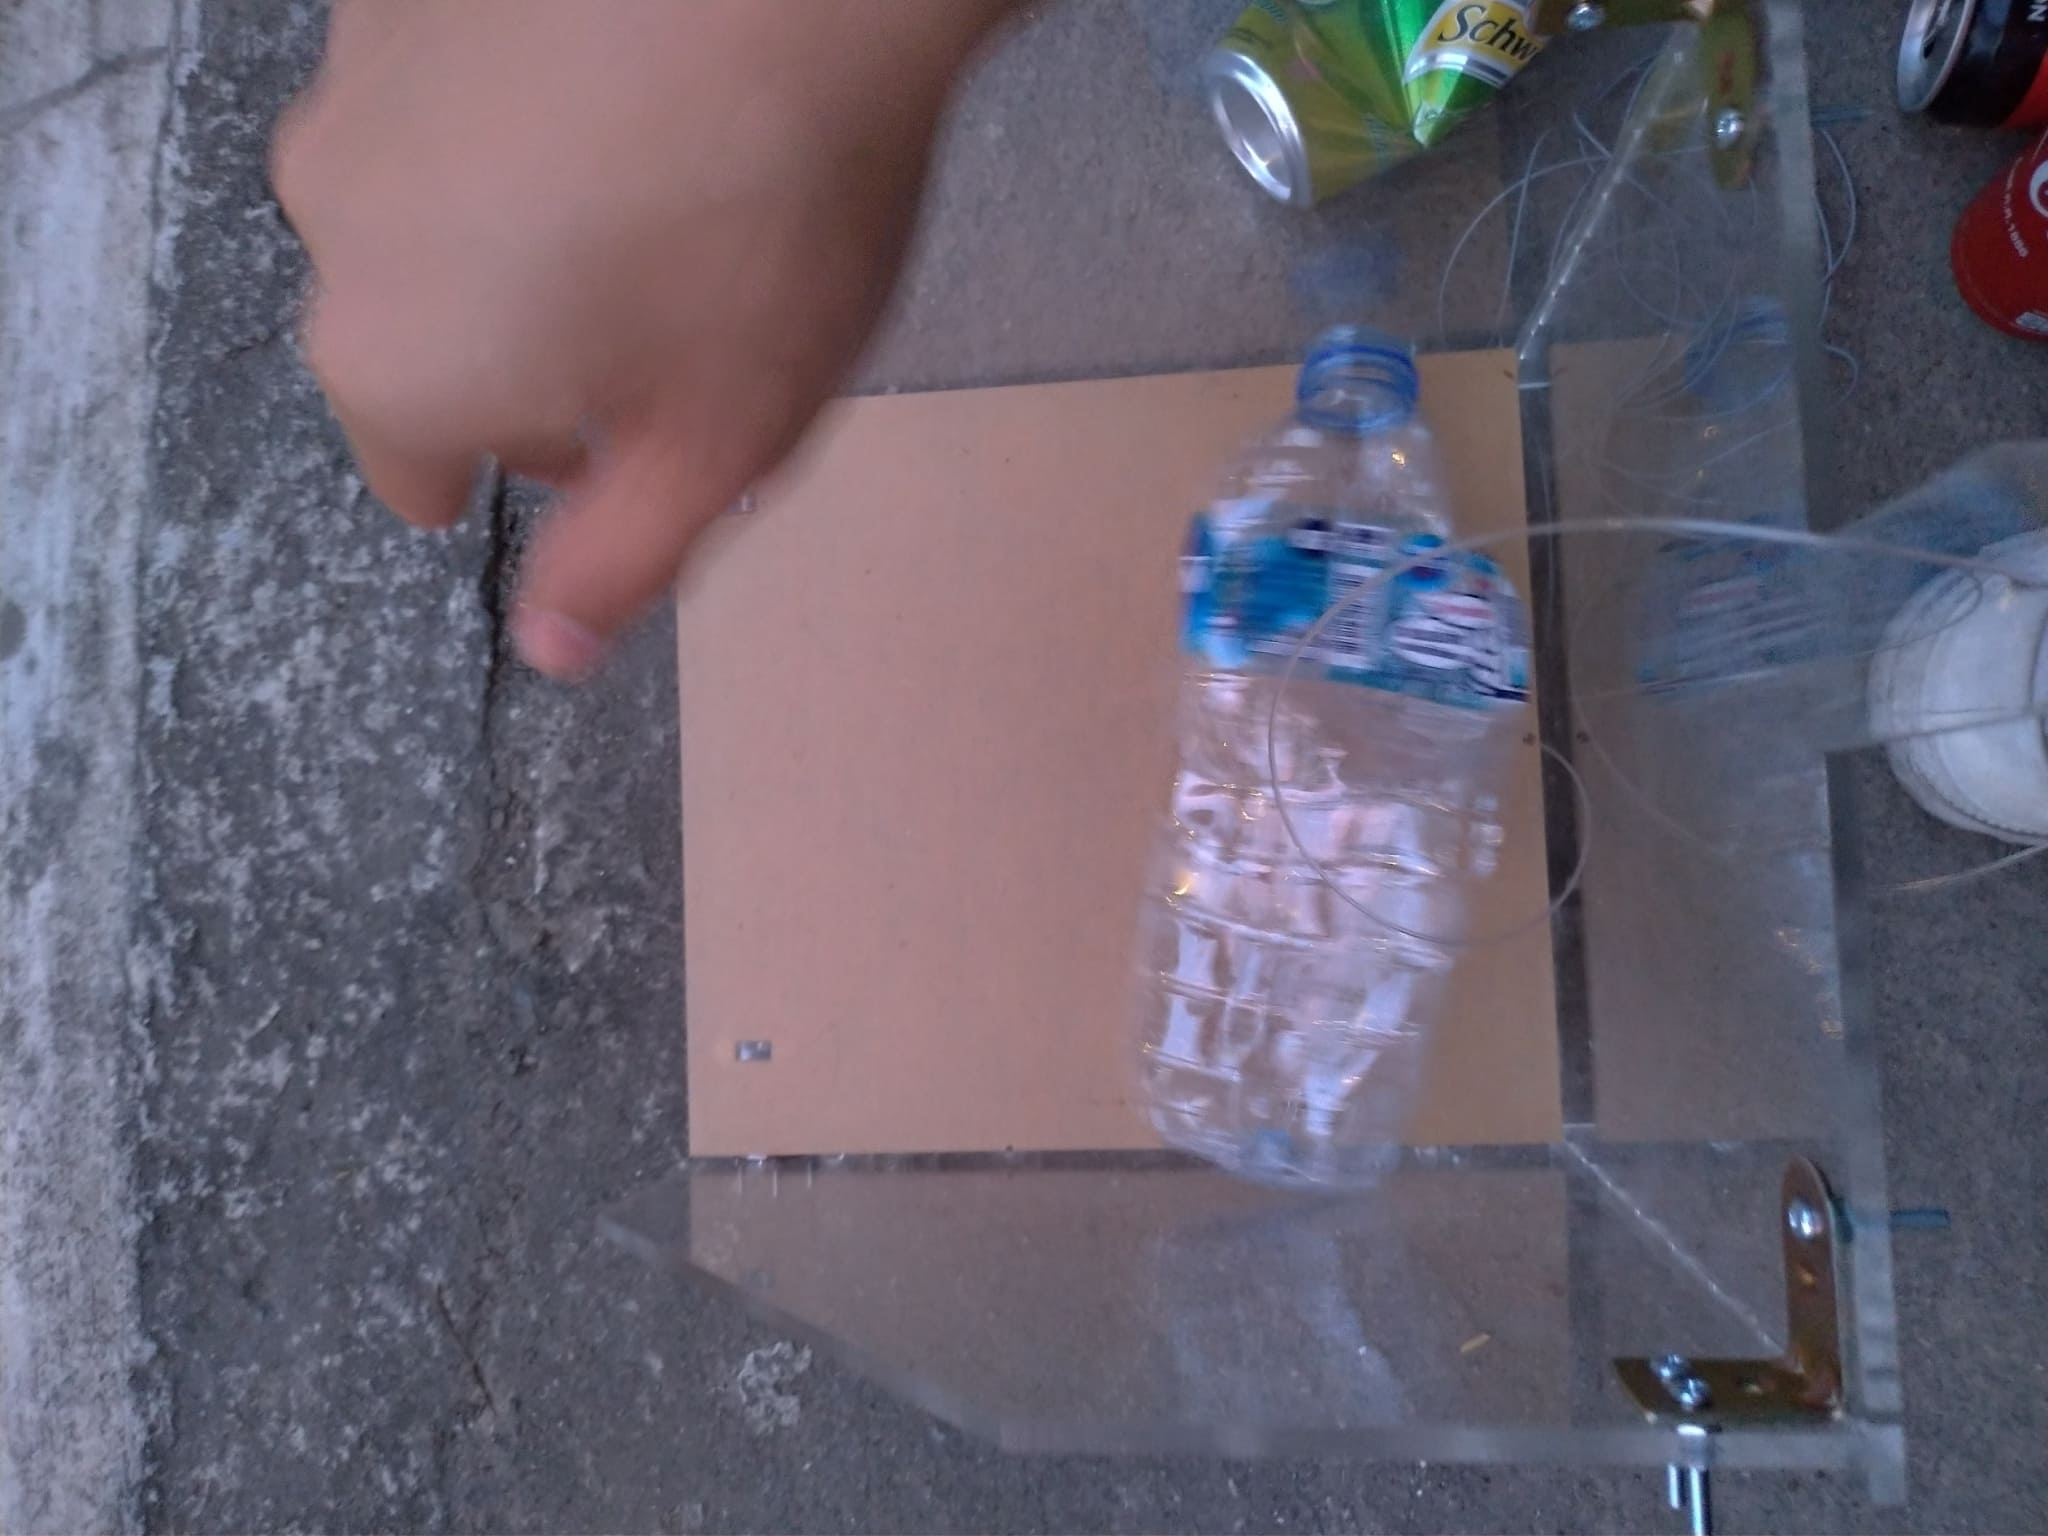AlCan: (1211, 5, 1566, 210), (1951, 118, 2048, 332), (1888, 3, 2029, 126)
PlasticBottle: (1126, 331, 1522, 1210)
